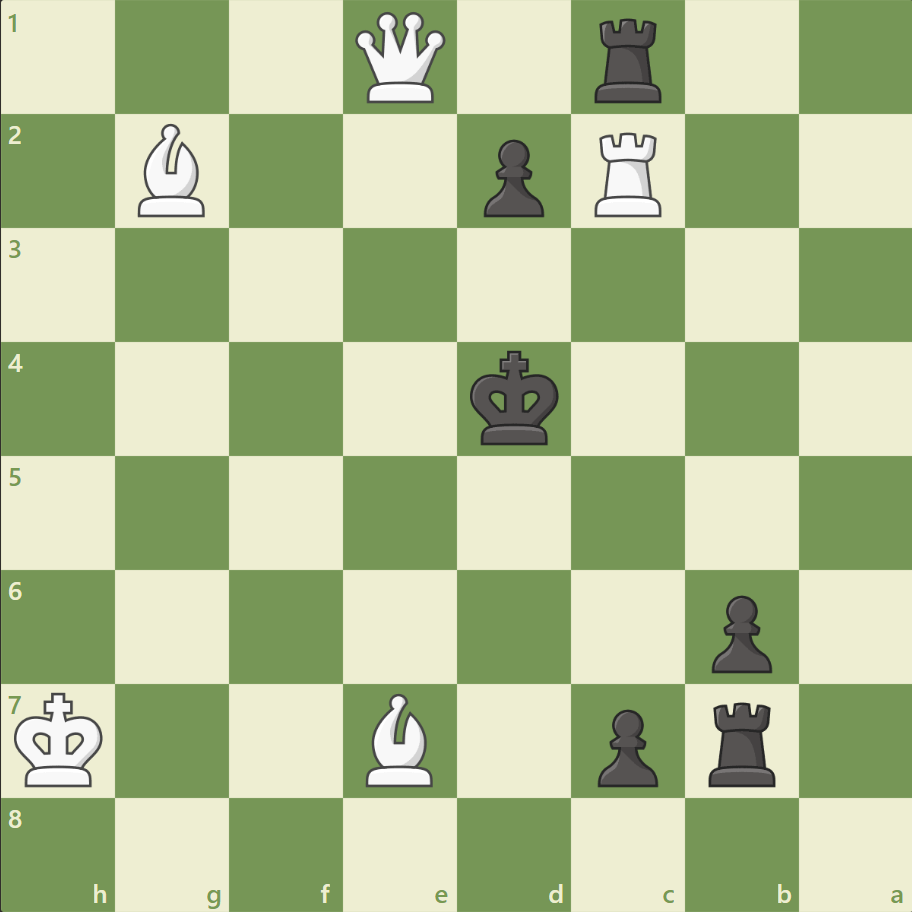B: (358, 687, 442, 790), (131, 120, 215, 222)
K: (11, 685, 111, 793)
Q: (351, 9, 450, 108)
R: (587, 125, 670, 222)
k: (465, 344, 565, 452)
p: (701, 586, 776, 677), (474, 132, 549, 223), (588, 700, 662, 791)
r: (700, 693, 783, 790), (587, 12, 670, 109)
